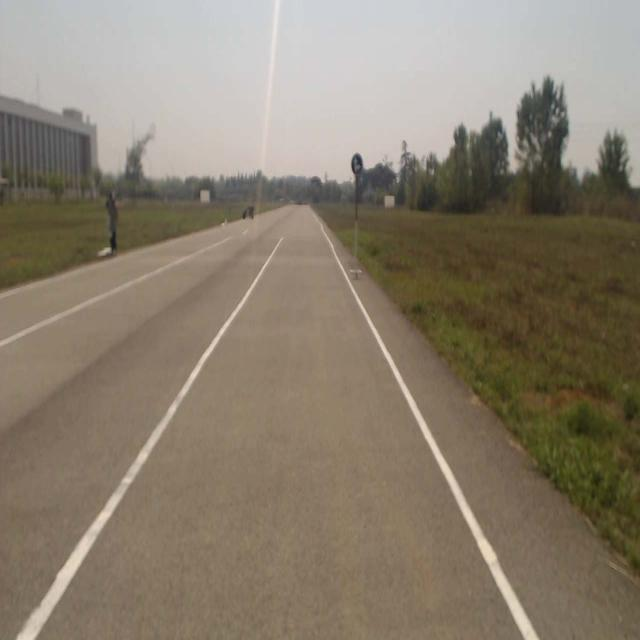ilerisag: (351, 152, 363, 176)
